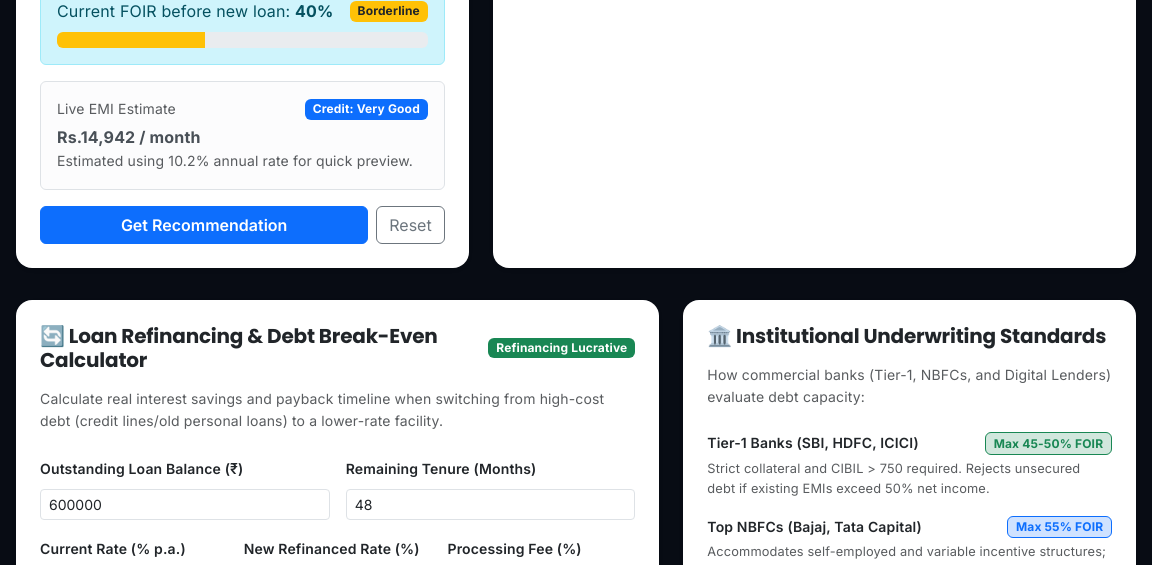
Test: LoanRecommendationPage submit › submits and renders recommendation payload
(page scrolled)
Click the button "Get Recommendation".
click(204, 225)  # box [40,206,368,244]
(page scrolled)
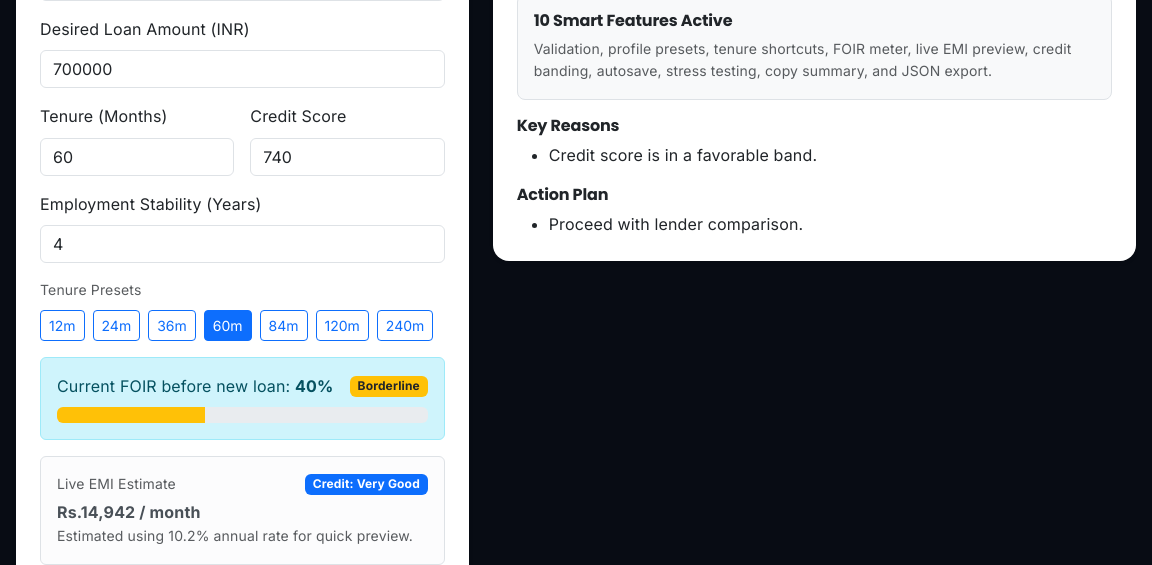
Now the list item "Proceed with lender comparison." is shown, box [549,214,803,234]
